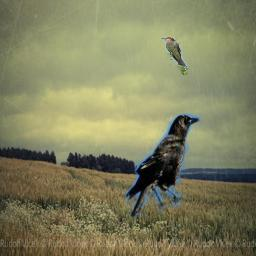Crow: (125, 112, 203, 218)
Cuckoo: (161, 37, 188, 75)
